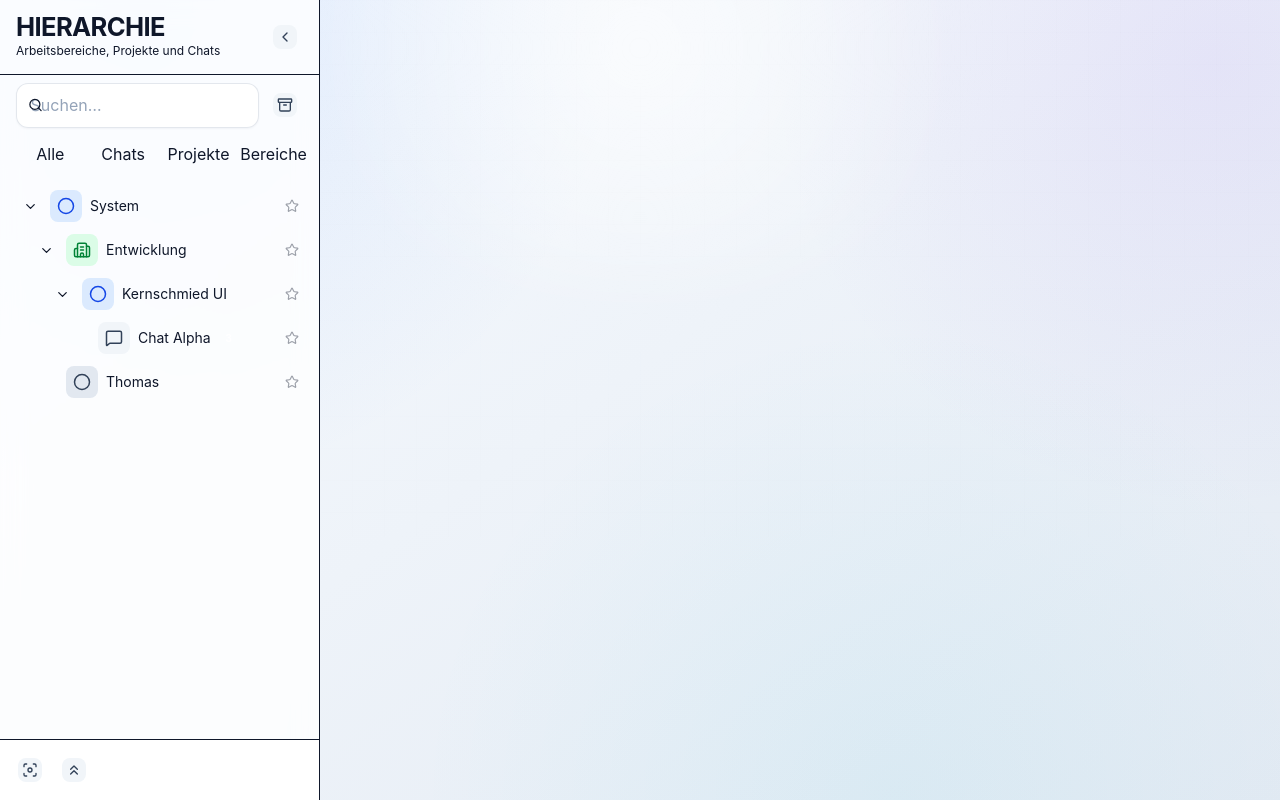
Test: AppHierarchySidebar › filters the hierarchy by node type while preserving ancestors
Click the button "Chats" at x=123, y=154, box x1=89 y1=136 x2=158 y2=172
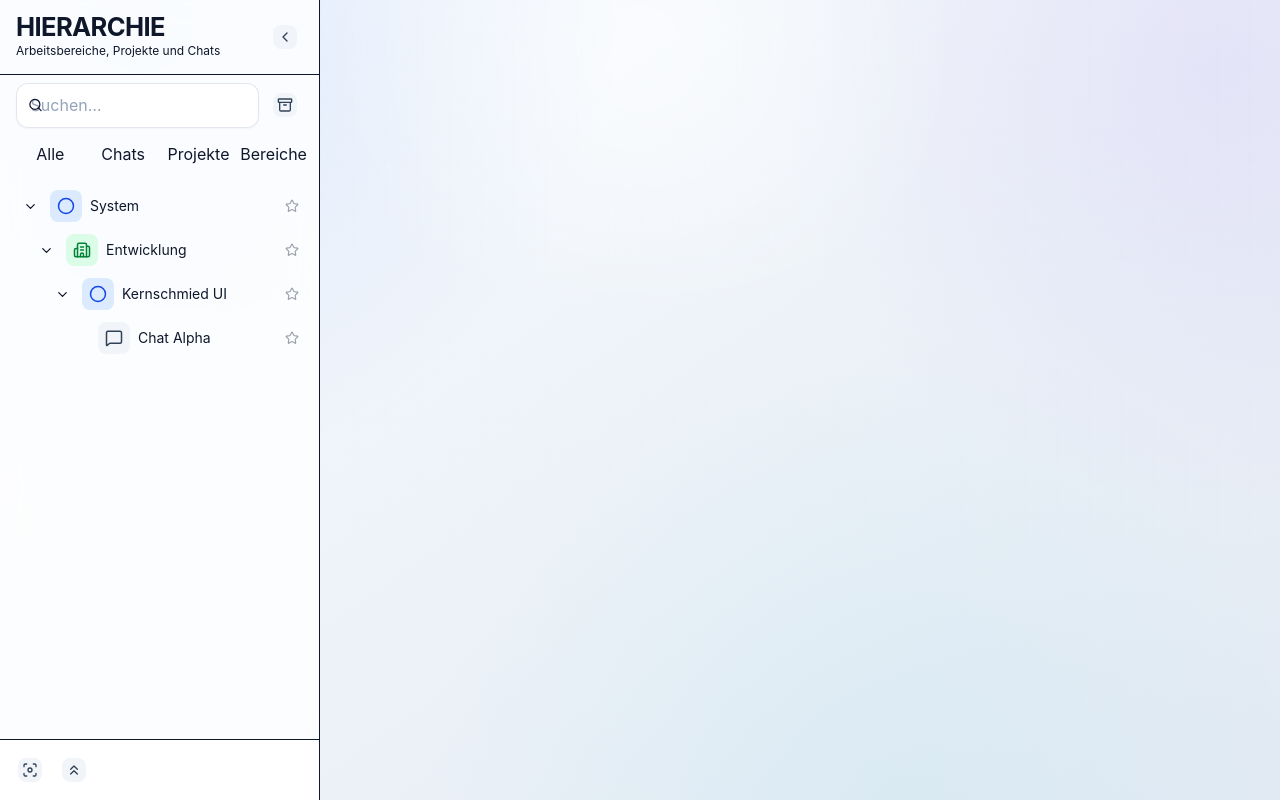
Expected: the button "Chat Alpha 3" is shown, x1=98 y1=322 x2=275 y2=354
Result: the button "Thomas" is gone
